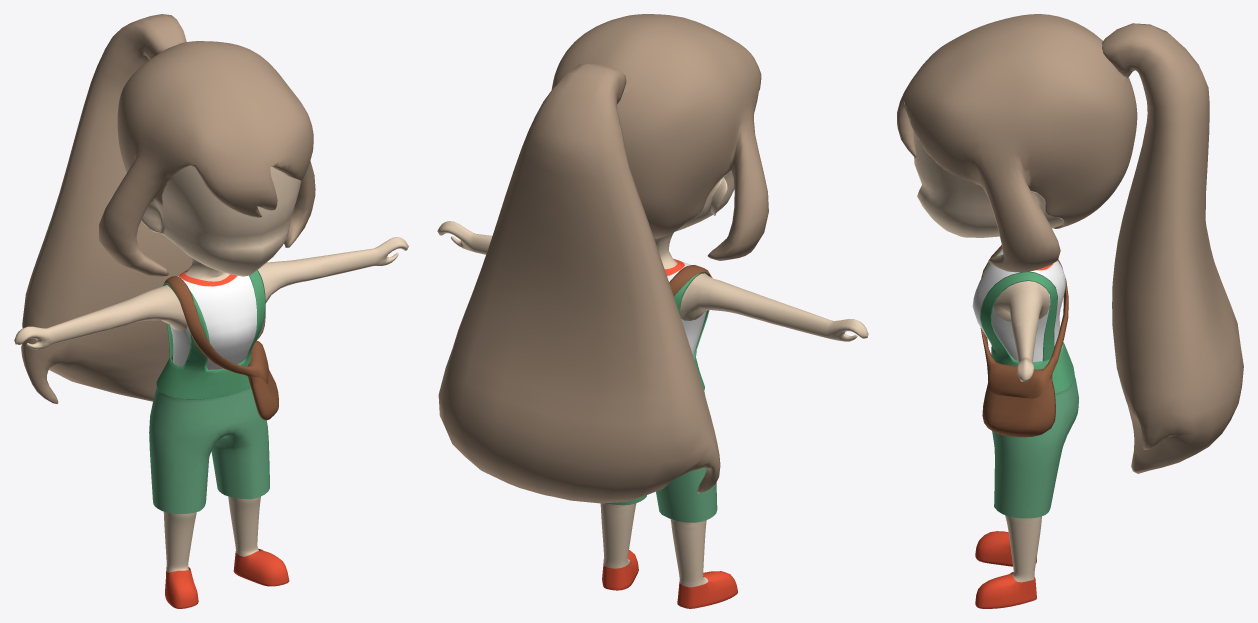
Rendered from Character.fbx.
3 renders of one model, left to right at view 1: azimuth 30°, elevation 25°; view 2: azimuth 150°, elevation 25°; view 3: azimuth 270°, elevation 25°, orthographic. The views are drawn at different scales.
Parts seen in each view (by area): view 1: scalp1, ponytail1, body, clothes_bottom1, clothes_top1, bag1, shoes; view 2: ponytail1, scalp1, body, clothes_bottom1, shoes, clothes_top1; view 3: ponytail1, scalp1, body, clothes_bottom1, bag1, shoes, clothes_top1.
Part boxes in pixels (left/top/right/bottom): scalp1: left=99, top=41, right=315, bottom=276; ponytail1: left=21, top=14, right=265, bottom=403; body: left=14, top=166, right=408, bottom=572; clothes_bottom1: left=149, top=270, right=269, bottom=513; clothes_top1: left=170, top=269, right=256, bottom=369; bag1: left=164, top=276, right=278, bottom=420; shoes: left=165, top=548, right=289, bottom=608; ponytail1: left=438, top=63, right=720, bottom=503; scalp1: left=551, top=14, right=768, bottom=260; body: left=437, top=172, right=868, bottom=587; clothes_bottom1: left=606, top=272, right=717, bottom=522; shoes: left=602, top=550, right=737, bottom=608; clothes_top1: left=665, top=258, right=706, bottom=355; ponytail1: left=1102, top=23, right=1243, bottom=473; scalp1: left=897, top=14, right=1137, bottom=272; body: left=914, top=132, right=1062, bottom=582; clothes_bottom1: left=980, top=248, right=1078, bottom=518; bag1: left=980, top=245, right=1068, bottom=437; shoes: left=975, top=531, right=1036, bottom=608; clothes_top1: left=972, top=249, right=1065, bottom=361.
Bounding box in the file's own units: 0.9883 × 1.26 × 0.7146.
Materials: 7 (2 with a texture image).
